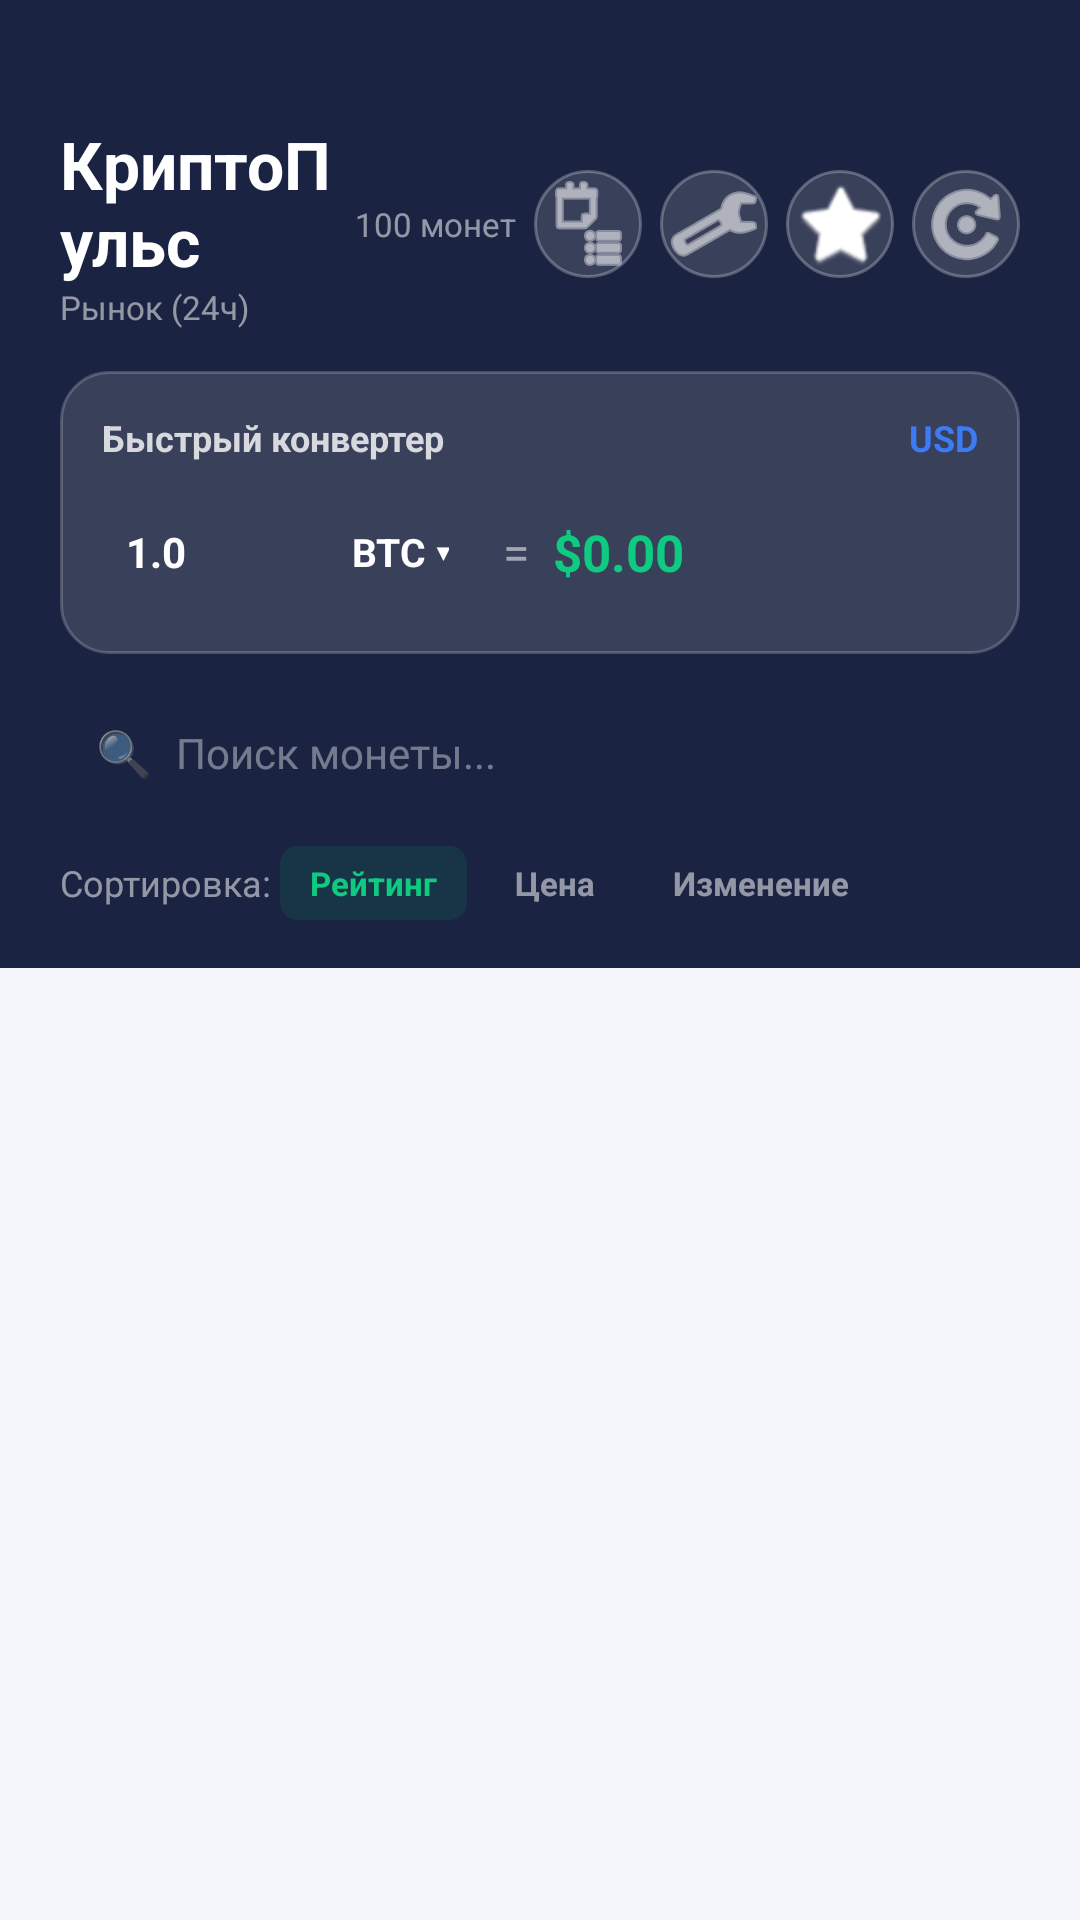

Icon bounding boxes for this 1080×1920 phone screenshot, format (x1=x1, y1=y1, x2=x2, y2=y2):
Вишлист: (x1=786, y1=170, x2=894, y2=278)
Настройки: (x1=660, y1=170, x2=768, y2=278)
Обновить: (x1=912, y1=170, x2=1020, y2=278)
Портфолио: (x1=534, y1=170, x2=642, y2=278)
